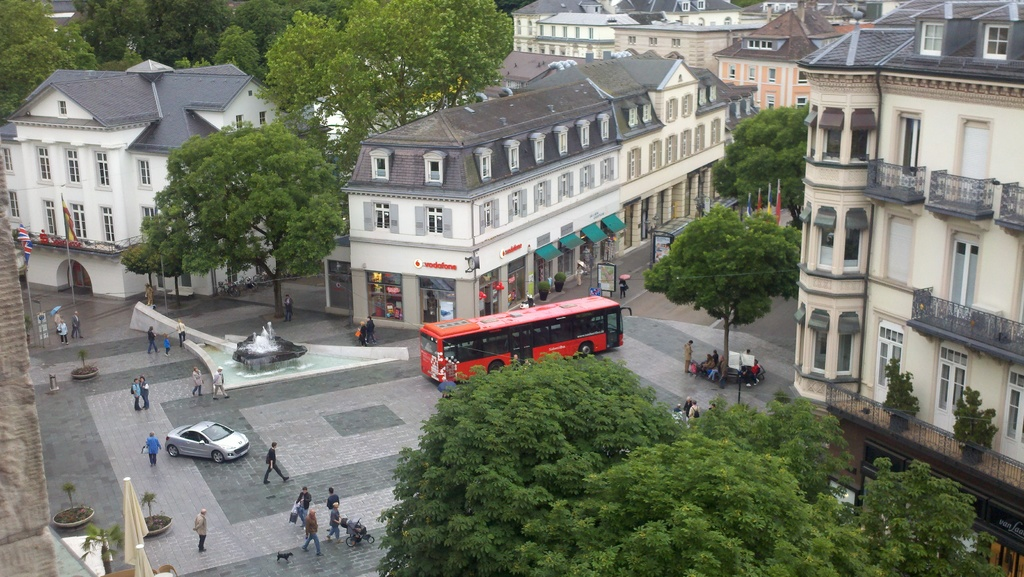Bus: (417, 292, 632, 390)
